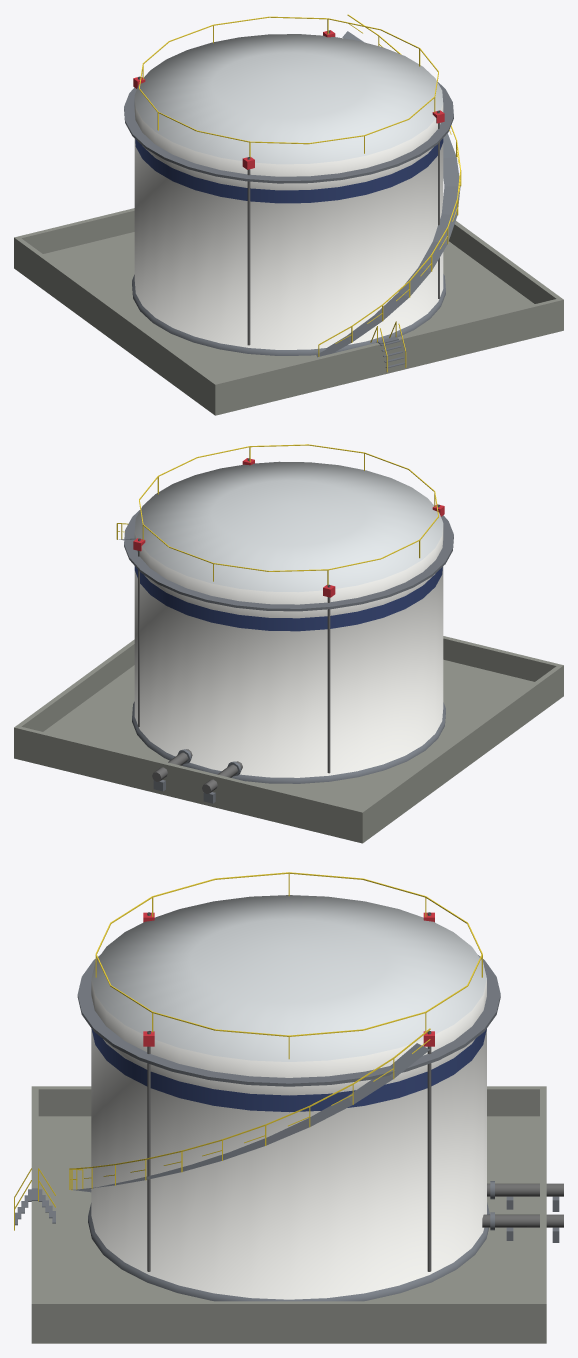
The model's file is mashup-tank-top-prebuilt_close.fbx.
3 renders of one model, top to bottom at view 1: azimuth 30°, elevation 25°; view 2: azimuth 150°, elevation 25°; view 3: azimuth 270°, elevation 25°, orthographic. The views are drawn at different scales.
Parts seen in each view (by area): view 1: a1056/0/mashup-tank-top-prebuilt_close; view 2: a1056/0/mashup-tank-top-prebuilt_close; view 3: a1056/0/mashup-tank-top-prebuilt_close.
Part boxes in pixels (box(x1,y1,x2,y2)): a1056/0/mashup-tank-top-prebuilt_close: box(14, 14, 563, 415); a1056/0/mashup-tank-top-prebuilt_close: box(14, 444, 563, 843); a1056/0/mashup-tank-top-prebuilt_close: box(14, 872, 563, 1343).
Bounding box in the file's own units: 22.4 × 13.7 × 23.92.
